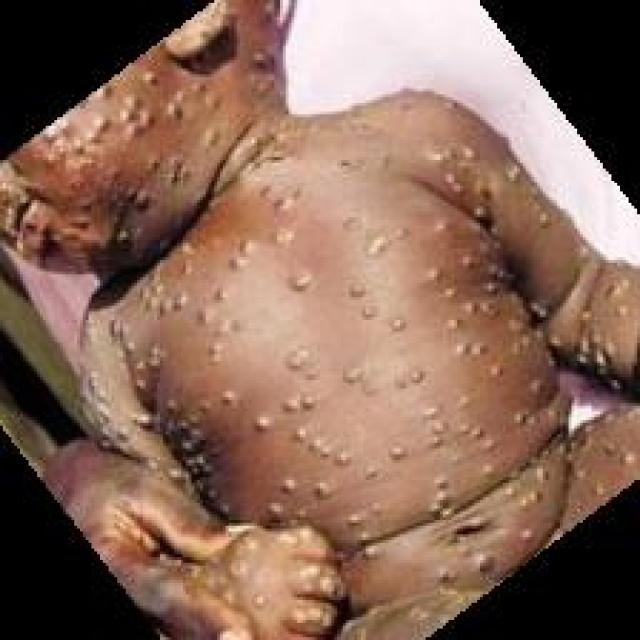monkeypox: (3, 11, 640, 640)
